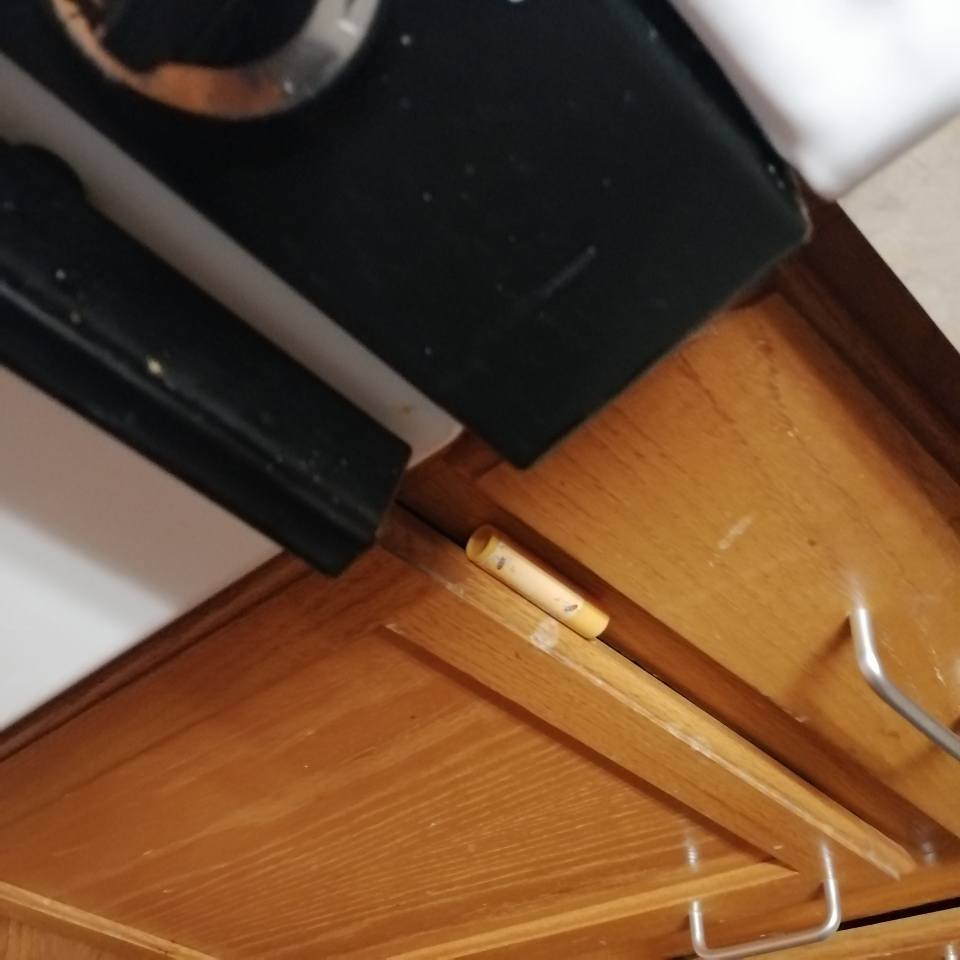chapstick: (465, 524, 613, 641)
